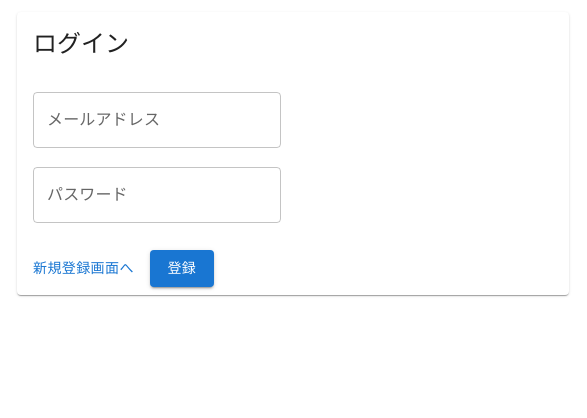
Scenario: TalkRoomListItem › api test › 通信のテスト（失敗）
The image size is (587, 418).
Type "test@gmail.com" into the field with test id "loginEmail".
click(157, 120); type("test@gmail.com")  # box [33,92,281,148]
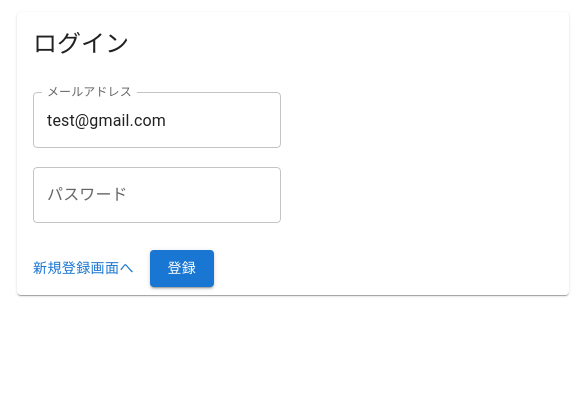
Type "password" into the field with test id "loginPassword".
click(157, 195); type("password")  # box [33,167,281,223]
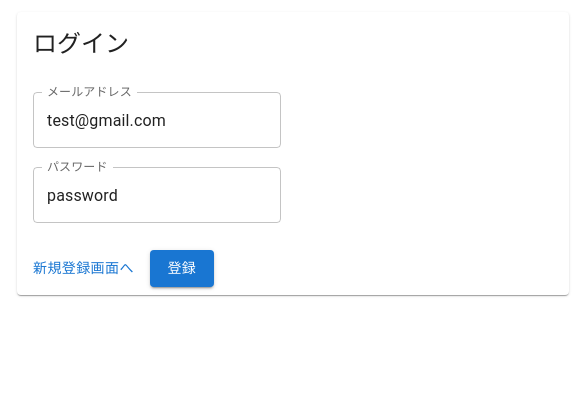
Click the button with test id "submitBtn".
click(182, 268)  # box [150,250,214,286]
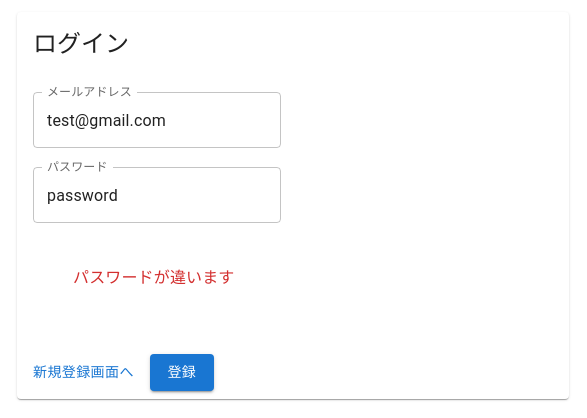
Now the text with test id "loginApiErr" reads "パスワードが違います", box [73,268,234,287]
